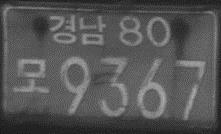0: (145, 15, 171, 47)
3: (97, 55, 131, 117)
6: (135, 56, 170, 121)
7: (171, 59, 209, 121)
8: (119, 15, 144, 46)
9: (59, 55, 91, 115)
경남_O: (47, 13, 107, 45)
모: (12, 57, 52, 94)
